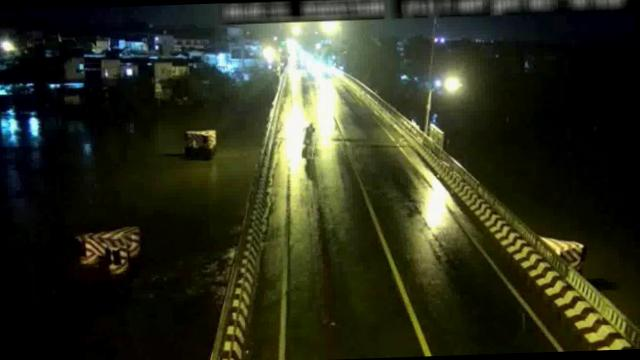Bike: (302, 122, 317, 160)
